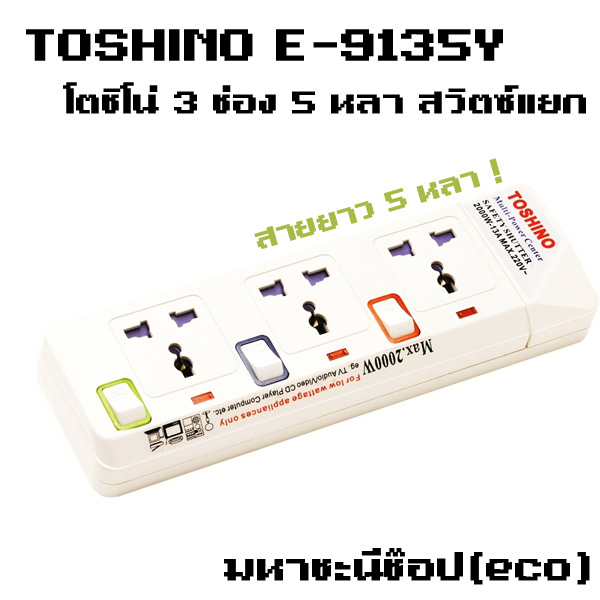Three_eye_plug: (31, 174, 600, 504)
